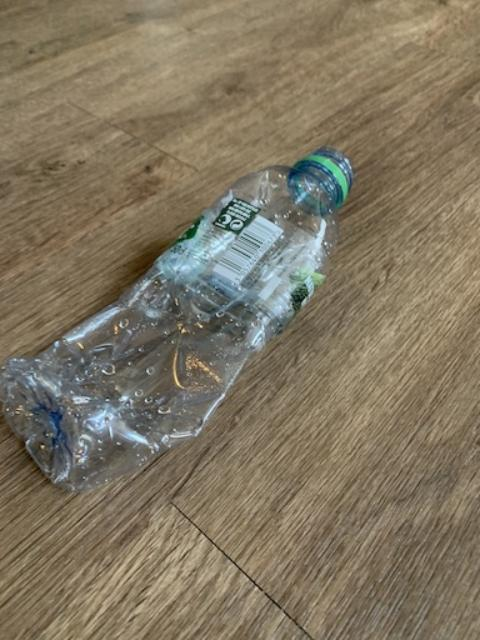plastic: (0, 146, 351, 489)
